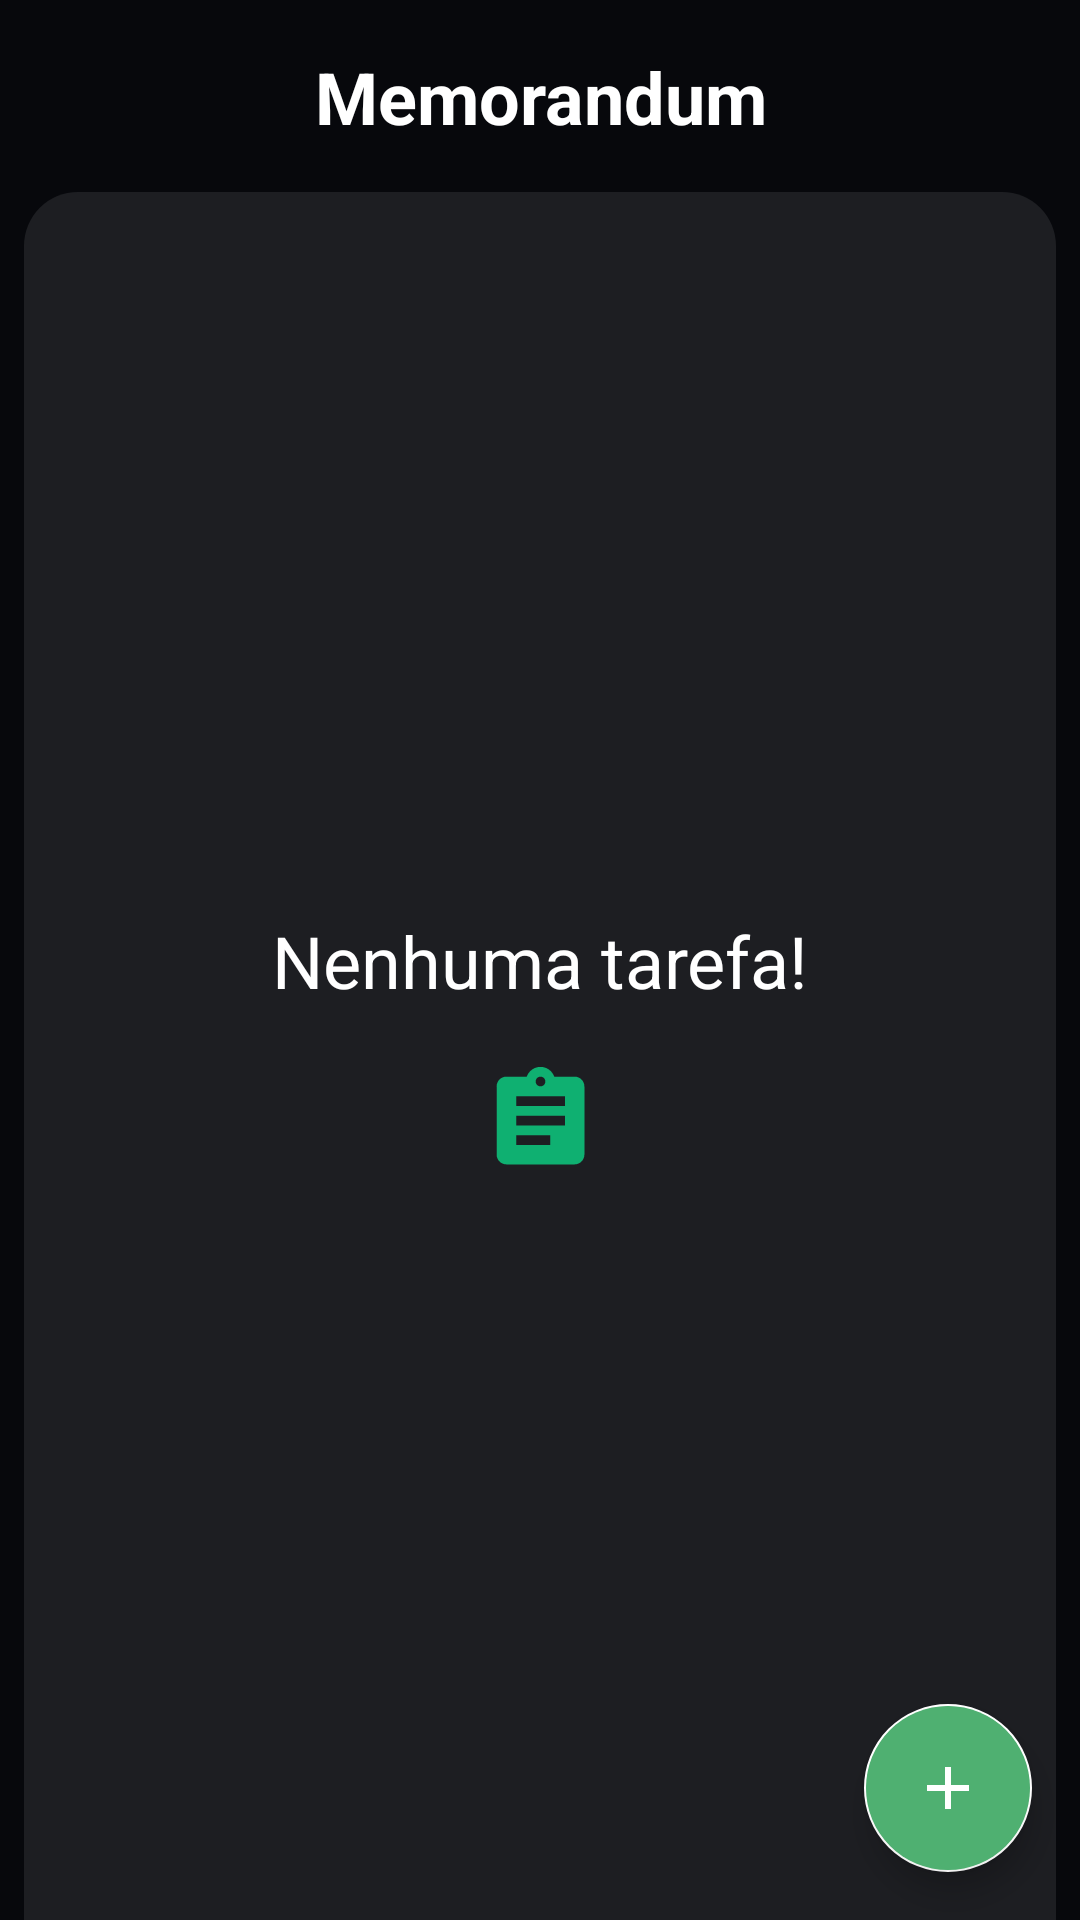

Icon bounding boxes for this 1080w x 1920h phone screenshot, format (x1, y1, x2, y2):
note: (496, 1067, 585, 1165)
Nova Tarefa: (864, 1704, 1032, 1872)
